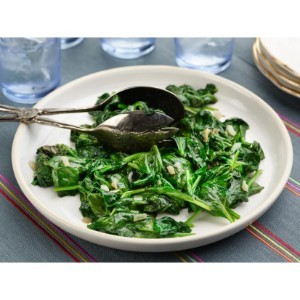spinach_brain food: (88, 146, 184, 230)
